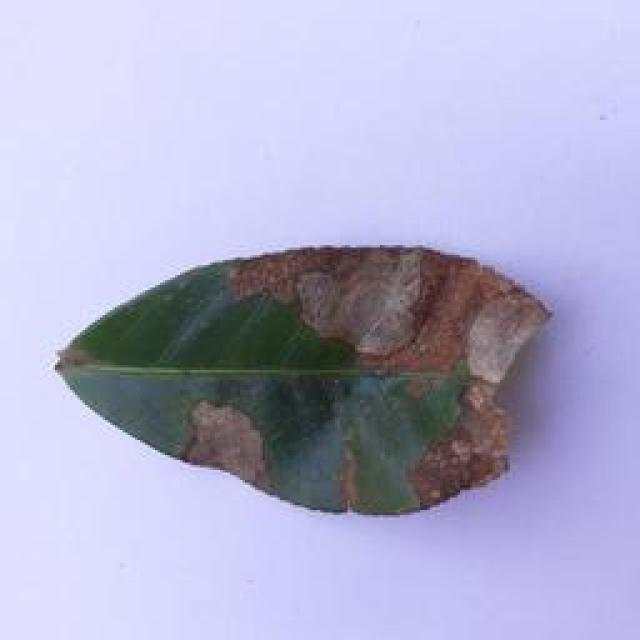Gray Blight: (59, 243, 557, 513)
